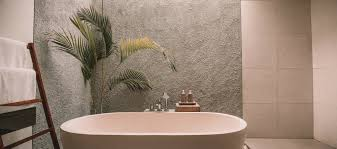bathub: (53, 105, 251, 149)
